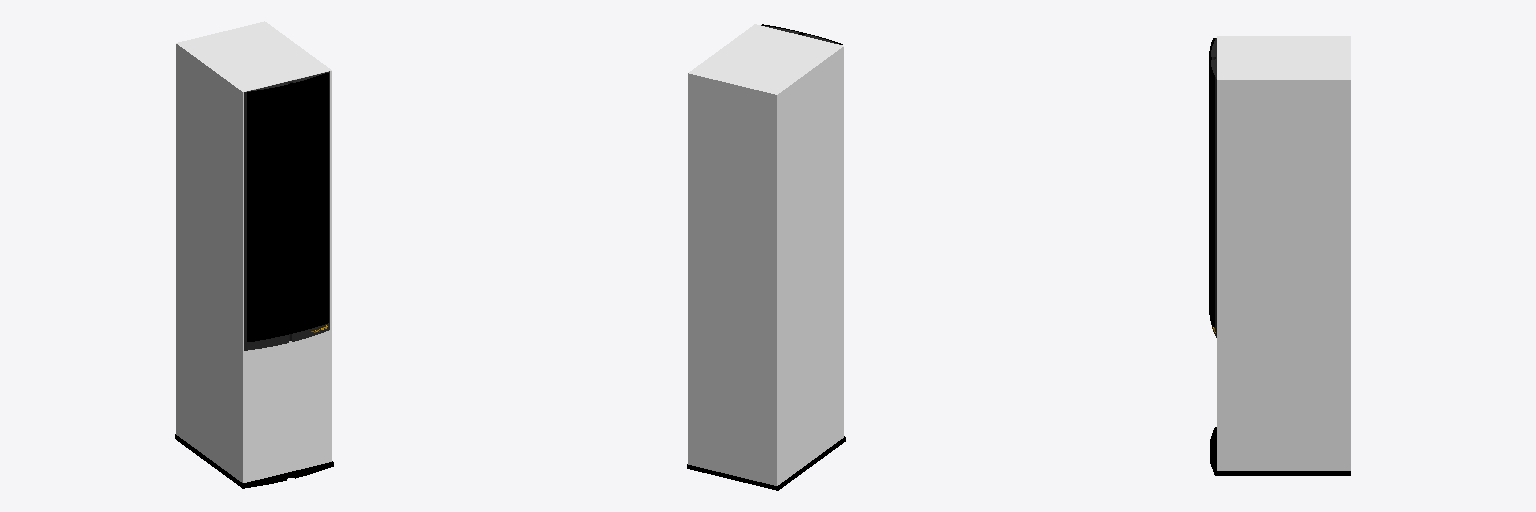
Rendered from lounge_speaker.obj.
The picture shows the model from 3 angles: view 1: azimuth 30°, elevation 25°; view 2: azimuth 150°, elevation 25°; view 3: azimuth 270°, elevation 25°; orthographic projection.
Parts seen in each view (by area): view 1: Cube_2_1, Boolean_6_2, Boolean_1_14, Boolean_10_3; view 2: Cube_2_1, Boolean_10_3; view 3: Cube_2_1, Boolean_6_2, Boolean_10_3, Boolean_1_14.
Part boxes in pixels (bbox=[...]): Cube_2_1: bbox=[176, 21, 331, 482]; Boolean_6_2: bbox=[247, 73, 328, 341]; Boolean_1_14: bbox=[244, 71, 329, 350]; Boolean_10_3: bbox=[175, 434, 333, 488]; Cube_2_1: bbox=[688, 24, 843, 485]; Boolean_10_3: bbox=[687, 436, 845, 490]; Cube_2_1: bbox=[1217, 36, 1350, 470]; Boolean_6_2: bbox=[1209, 38, 1215, 326]; Boolean_10_3: bbox=[1210, 427, 1350, 475]; Boolean_1_14: bbox=[1211, 38, 1216, 337].
Bounding box in the file's own units: 22 × 91 × 29.62.